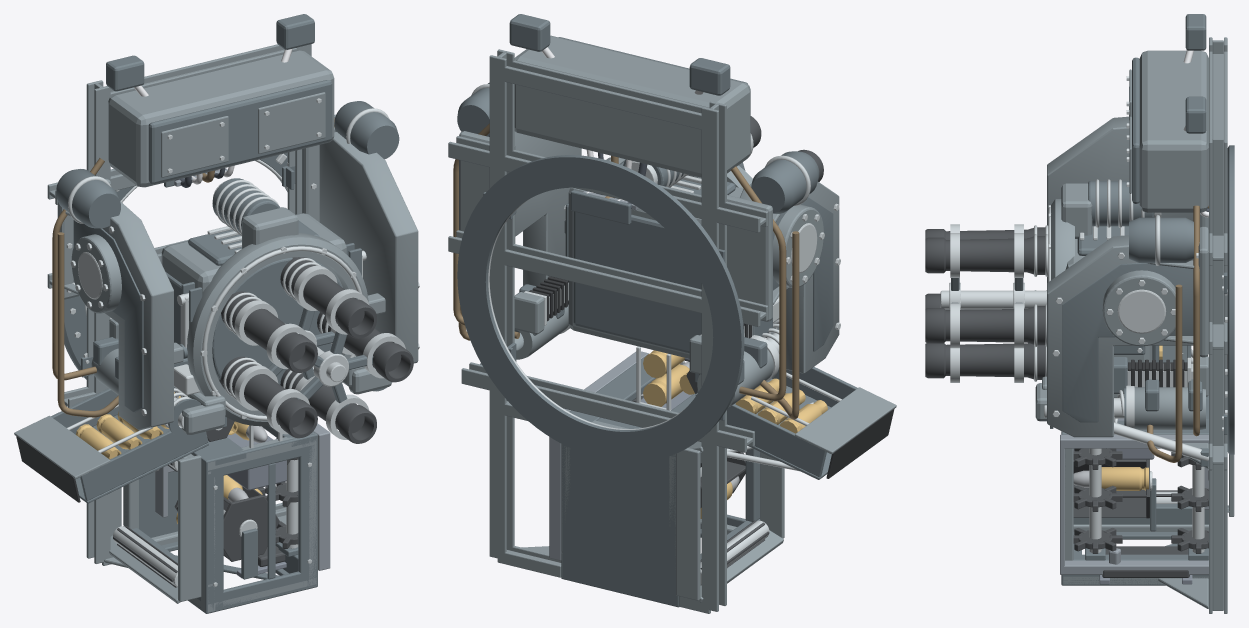
Rendered from weapon-gatling.glb.
3 renders of one model, left to right at view 1: azimuth 30°, elevation 25°; view 2: azimuth 150°, elevation 25°; view 3: azimuth 270°, elevation 25°, orthographic. The views are drawn at different scales.
Visible parts, largest first — view 1: gun_cradle_cheek_+1, feed_panels, gun_house, gun_mount_girders, gun_cradle_cheek_-1, gun_front_bearing, gun_house_hood, gun_ejection_trough, link_exit_flare, feed_frame, barrel_hub, gun_cradle_cheek_field_-1 (+47 smaller); view 2: gun_mount_girders, gun_mount_flange, feed_panels, gun_house, gun_receiver_rear_cover, link_exit_flare, gun_ejection_trough, gun_cradle_cheek_+1, gun_hydraulic_line_-1, gun_cradle_foot_-1, gun_cradle_cheek_-1, gun_ejection_hood (+24 smaller); view 3: gun_mount_girders, gun_house, gun_cradle_cheek_+1, gun_cradle_cheek_field_+1, gun_cradle_cheek_-1, feed_mouth_lip, barrel_0, barrel_1, feed_panels, barrel_4, gun_hydraulic_line_+1, gun_cradle_trunnion_+1 (+34 smaller).
Part boxes in pixels (x1,y1,x2,y2): gun_cradle_cheek_+1: (319,132,418,363); feed_panels: (123,425,317,613); gun_house: (108,50,334,187); gun_mount_girders: (47,44,335,565); gun_cradle_cheek_-1: (103,201,173,430); gun_front_bearing: (187,233,368,426); gun_house_hood: (148,80,332,184); gun_ejection_trough: (51,388,208,503); link_exit_flare: (109,454,201,603); feed_frame: (123,433,316,612); barrel_hub: (212,257,342,384); gun_cradle_cheek_field_-1: (73,220,143,412); gun_mount_girders: (448,49,768,613); gun_mount_flange: (457,155,744,462); feed_panels: (561,354,760,607); gun_house: (514,35,750,177); gun_receiver_rear_cover: (573,211,701,352); link_exit_flare: (676,441,784,602); gun_ejection_trough: (696,367,857,479); gun_cradle_cheek_+1: (514,131,581,285); gun_hydraulic_line_-1: (731,166,799,419); gun_cradle_foot_-1: (727,195,772,321); gun_cradle_cheek_-1: (740,182,839,373); gun_ejection_hood: (795,387,896,454); gun_mount_girders: (1209,37,1227,613); gun_house: (1139,50,1208,212); gun_cradle_cheek_+1: (1047,235,1193,437); gun_cradle_cheek_field_+1: (1062,263,1193,422); gun_cradle_cheek_-1: (1047,116,1193,282); feed_mouth_lip: (1060,434,1208,574); barrel_0: (925,306,1045,345); barrel_1: (925,236,1045,274); feed_panels: (1061,395,1208,585); barrel_4: (925,343,1045,379); gun_hydraulic_line_+1: (1147,205,1199,462); gun_cradle_trunnion_+1: (1102,270,1175,346).
Size of the model in its own units: 4.02 by 5.42 by 3.
